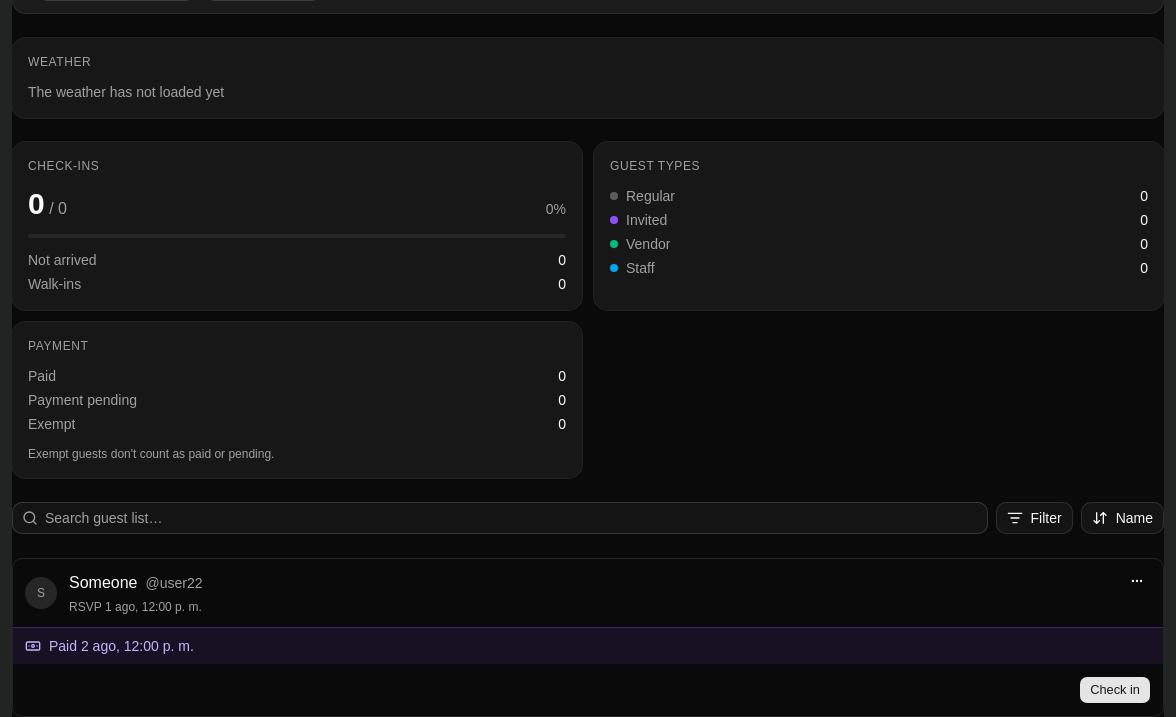
Test: MeetupDetailPage guest type menu › hides guest type options from non-admin staff
This screenshot has width=1176, height=717.
(page scrolled)
Click the button named "Guest actions: Someone" at (1137, 580), box 1119,566 -> 1155,594
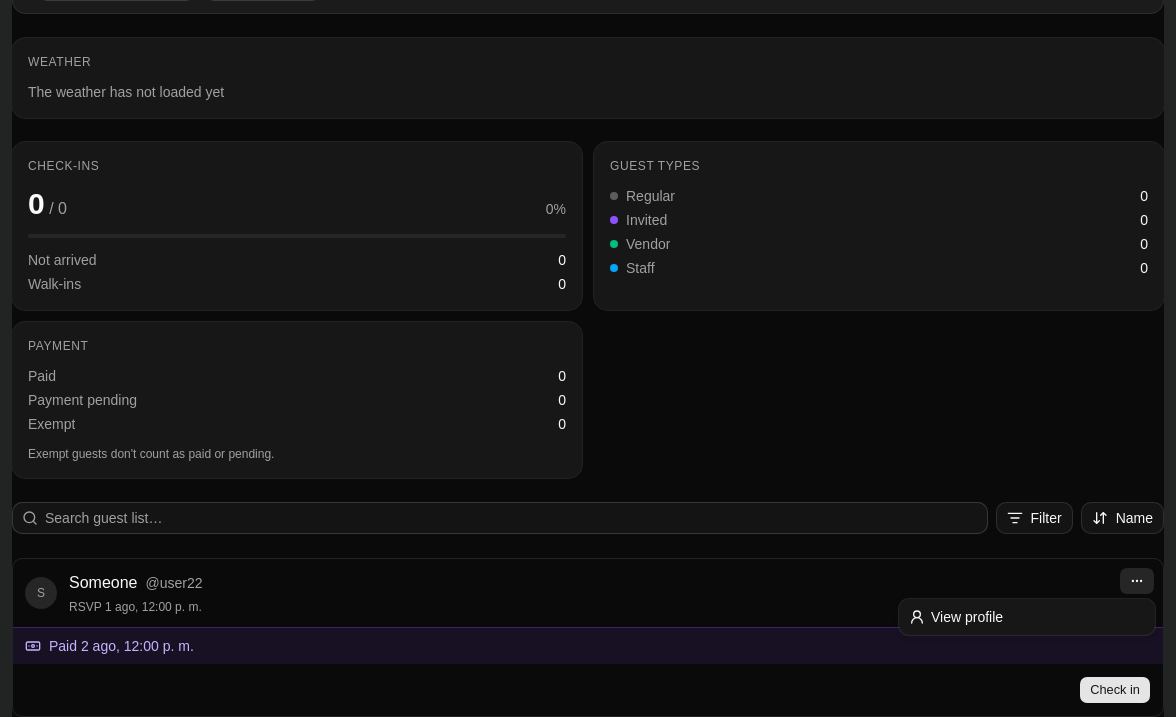
Expected: the menu item "View profile" is shown, 909,609 -> 1003,625
